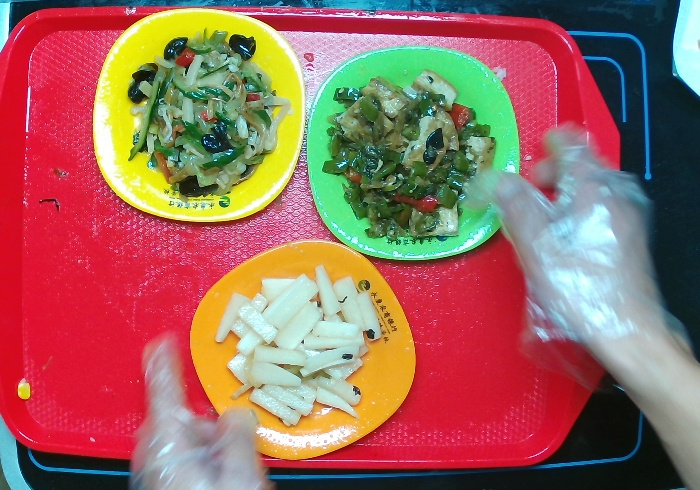YKMZ-Huang_Se_Fang_Die: (86, 6, 312, 224)
YKMZ-Ju_Se_Fang_Die: (188, 231, 420, 465)
YKMZ-Lv_Se_Fang_Die: (297, 38, 526, 270)
